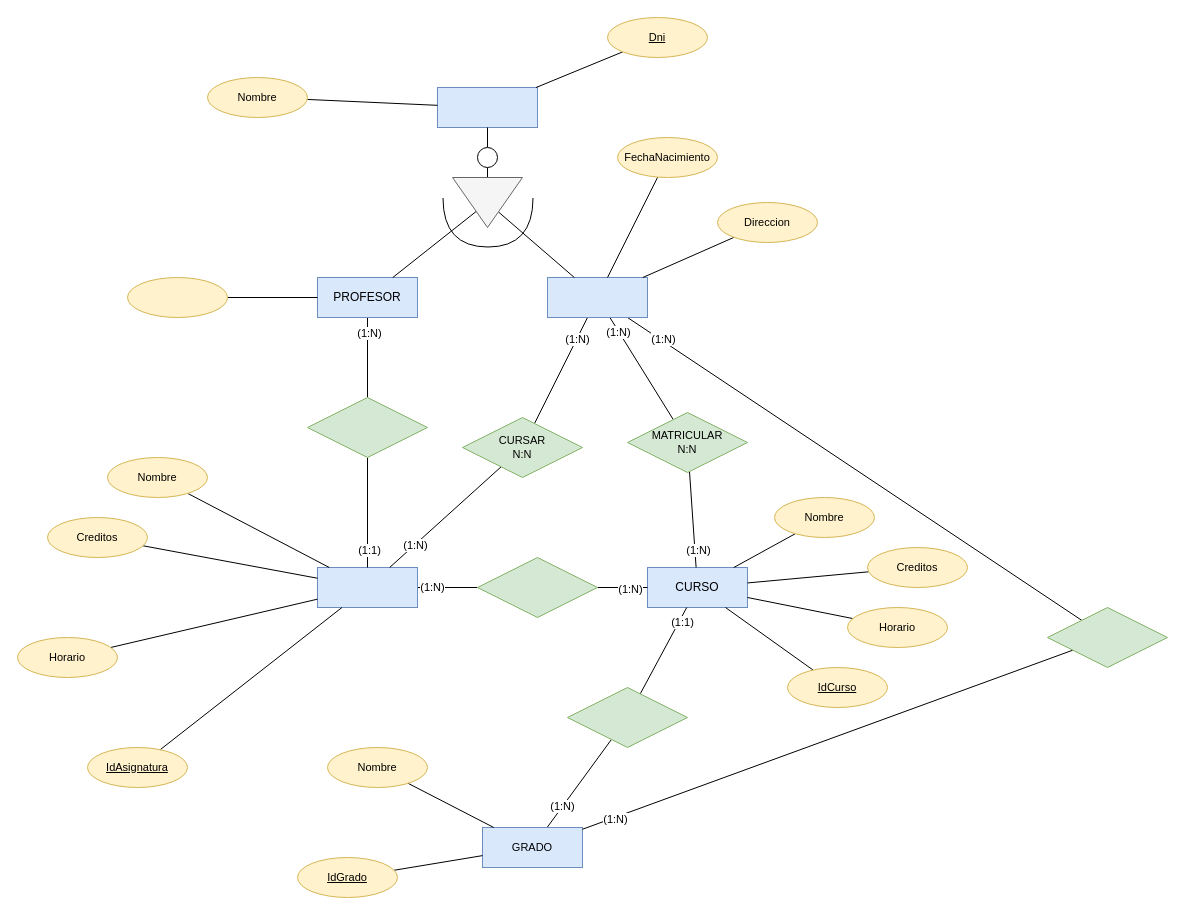
This 1185x915 diagram has some shape labels left out. Each missing label, with the box of its shape:
ALUMNO: (546, 276, 648, 318)
ASIGNATURA: (316, 566, 418, 608)
CONTENER 1:N: (566, 686, 688, 748)
CONTENER N:N: (476, 556, 598, 618)
CorreoElectronico: (126, 276, 228, 318)
IMPARTIR 1:N: (306, 396, 428, 458)
PERSONA: (436, 86, 538, 128)
PERTENECER N:N: (1046, 606, 1168, 668)
